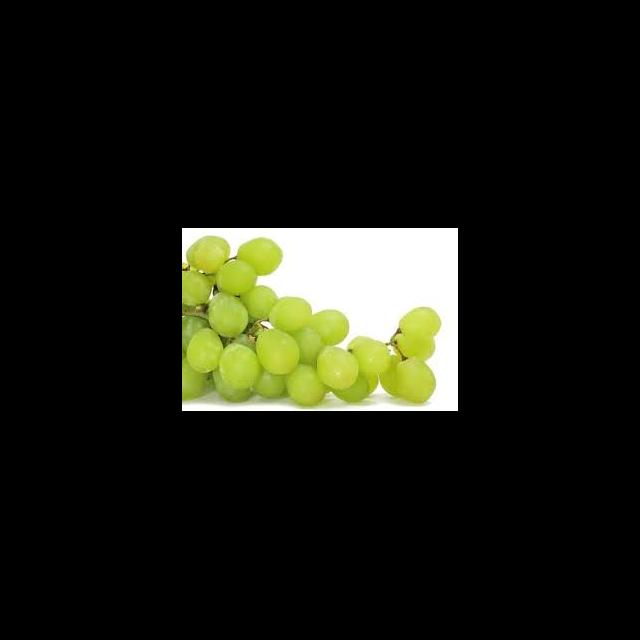grape: (182, 234, 441, 406)
